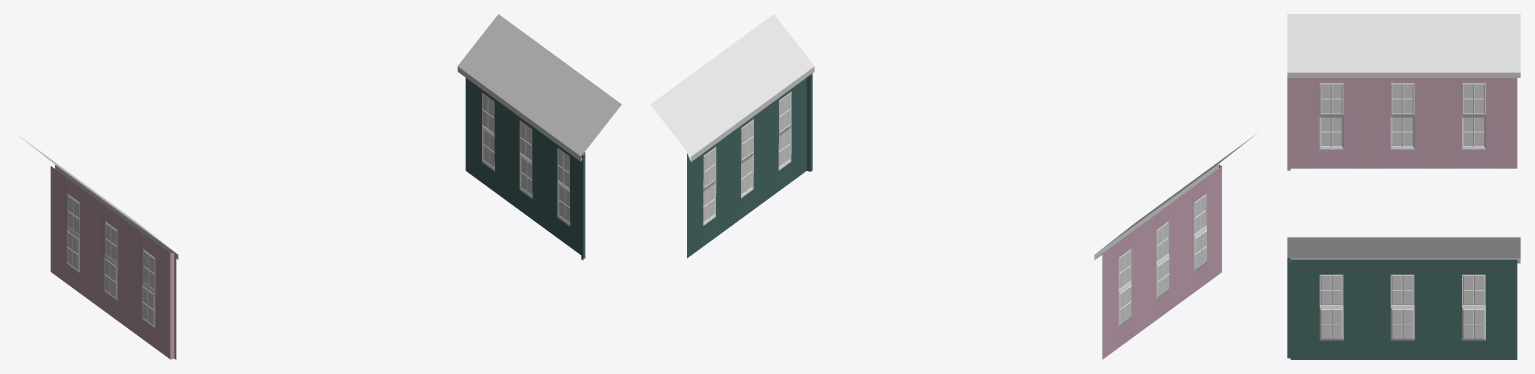
The model's file is Casas2.fbx.
3 renders of one model, left to right at view 1: azimuth 30°, elevation 25°; view 2: azimuth 150°, elevation 25°; view 3: azimuth 270°, elevation 25°, orthographic. The views are drawn at different scales.
Visible parts, largest first — view 1: Casa.Luz; view 2: Casa.Luz; view 3: Casa.Luz.
Boxes of the visible parts, x1,y1,x2,y2 form: Casa.Luz: [18, 14, 621, 359]; Casa.Luz: [650, 14, 1253, 359]; Casa.Luz: [1287, 14, 1520, 359].
Size of the model in its own units: 1389 by 402 by 613.
